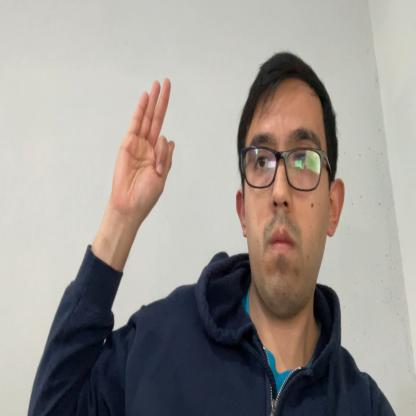F: (113, 77, 176, 220)
